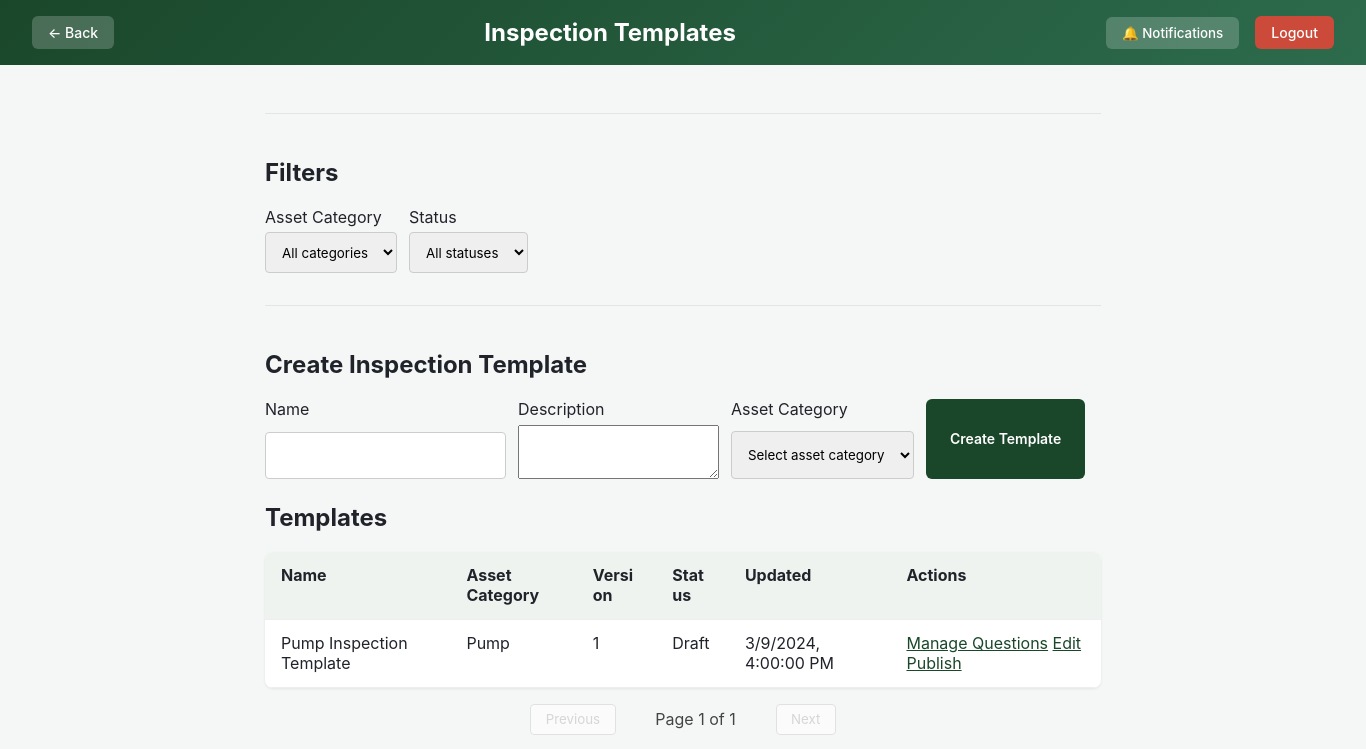
InspectionTemplatesPage › publishes template when publish action is confirmed
The width and height of the screenshot is (1366, 749).
Expected: the text "Pump Inspection Template" is shown, [265, 619, 450, 687]
Step 1. Click the button "Publish" → (934, 663), box [906, 653, 962, 673]
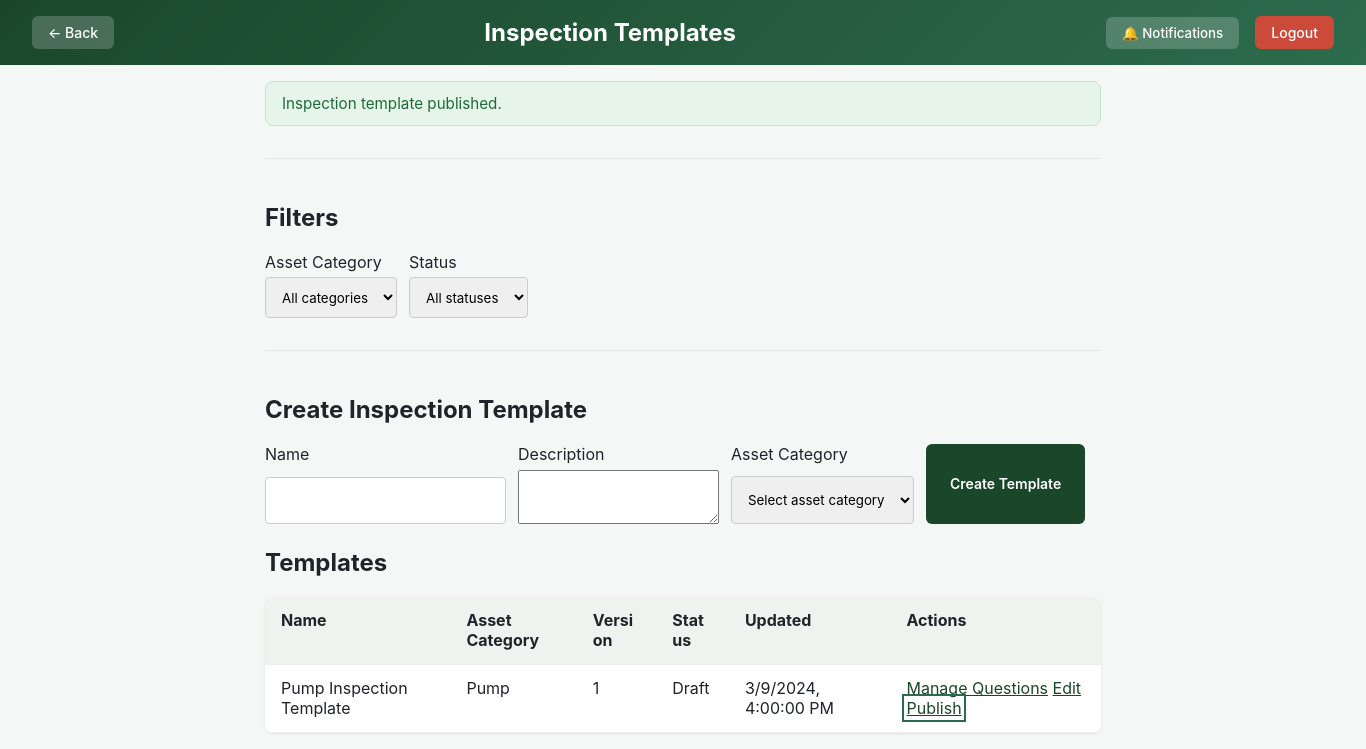
Expected: the text "Inspection template published." is shown, [265, 81, 1101, 126]
